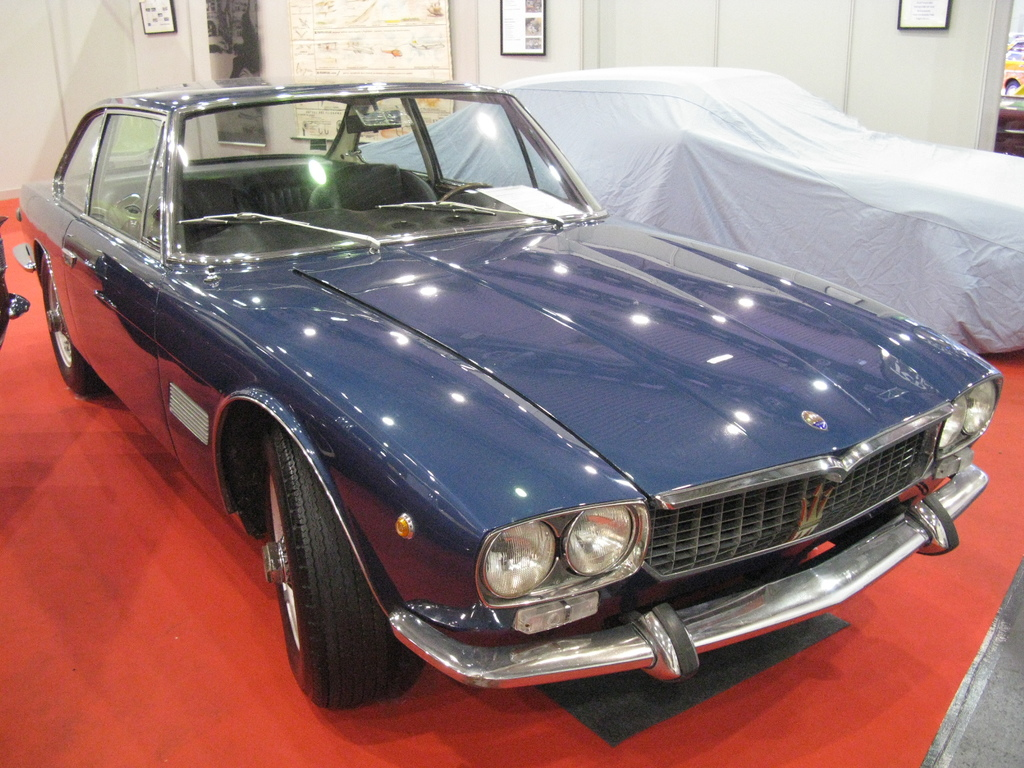car: (5, 73, 1013, 702)
